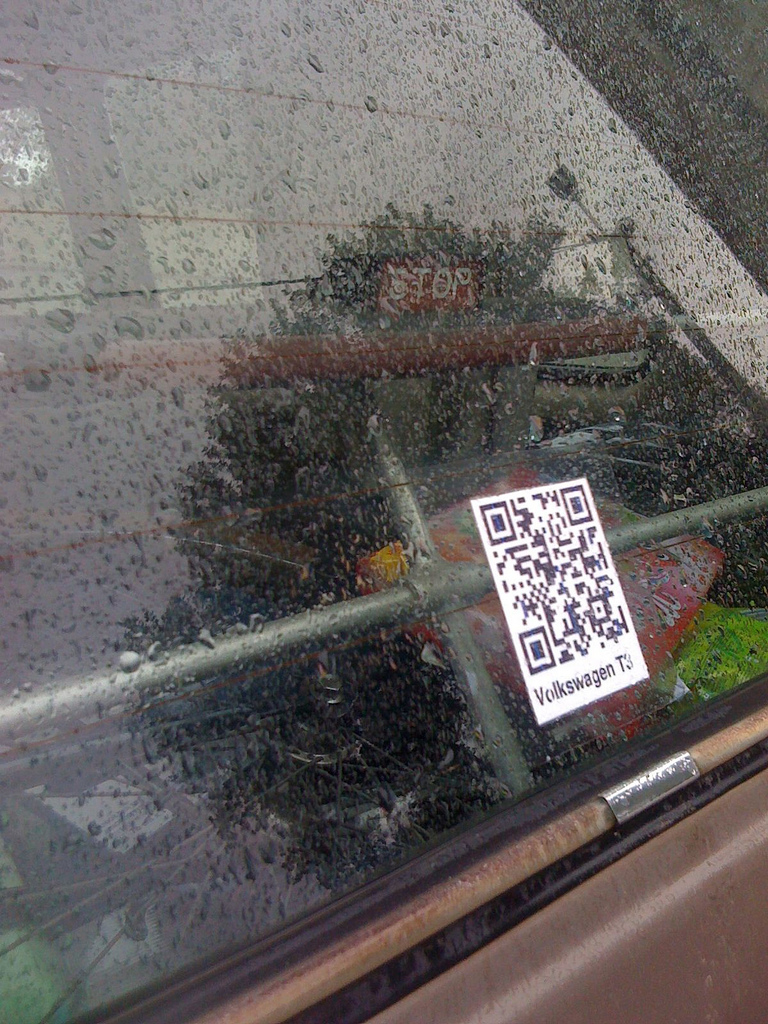QR-CODE: (479, 484, 631, 676)
